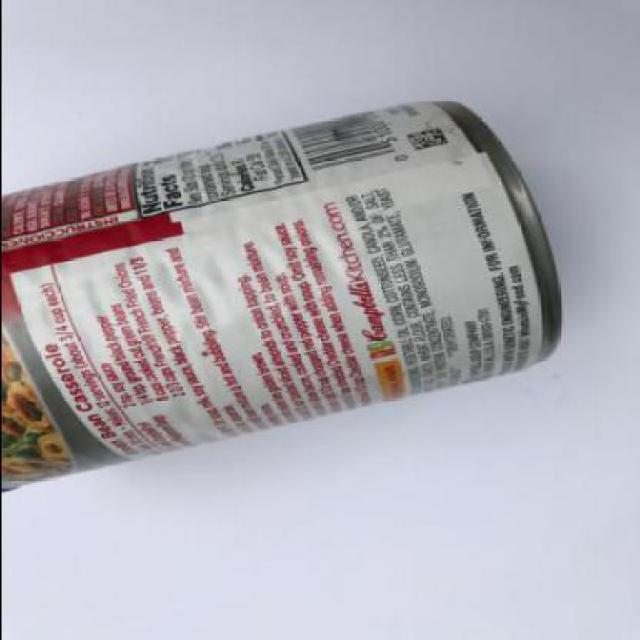METAL: (1, 100, 558, 497)
